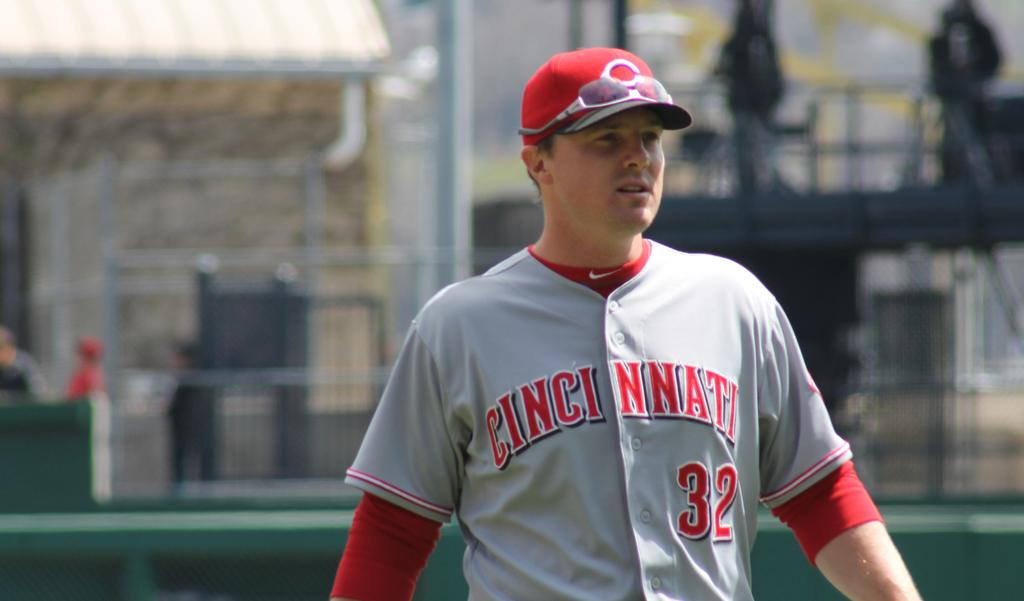Hat: (520, 48, 692, 144)
